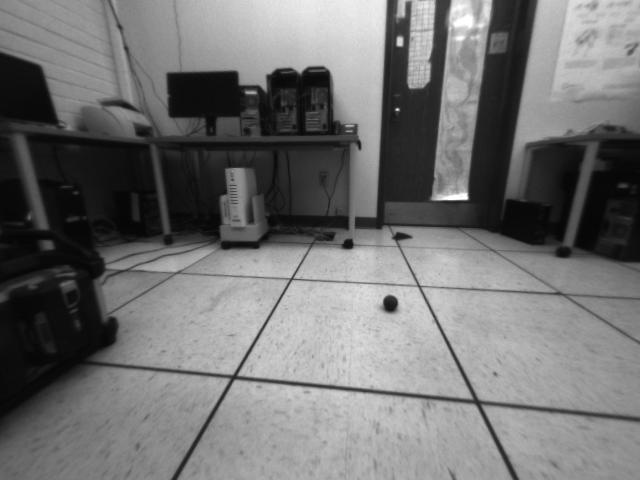dogtoy: (378, 288, 407, 316)
